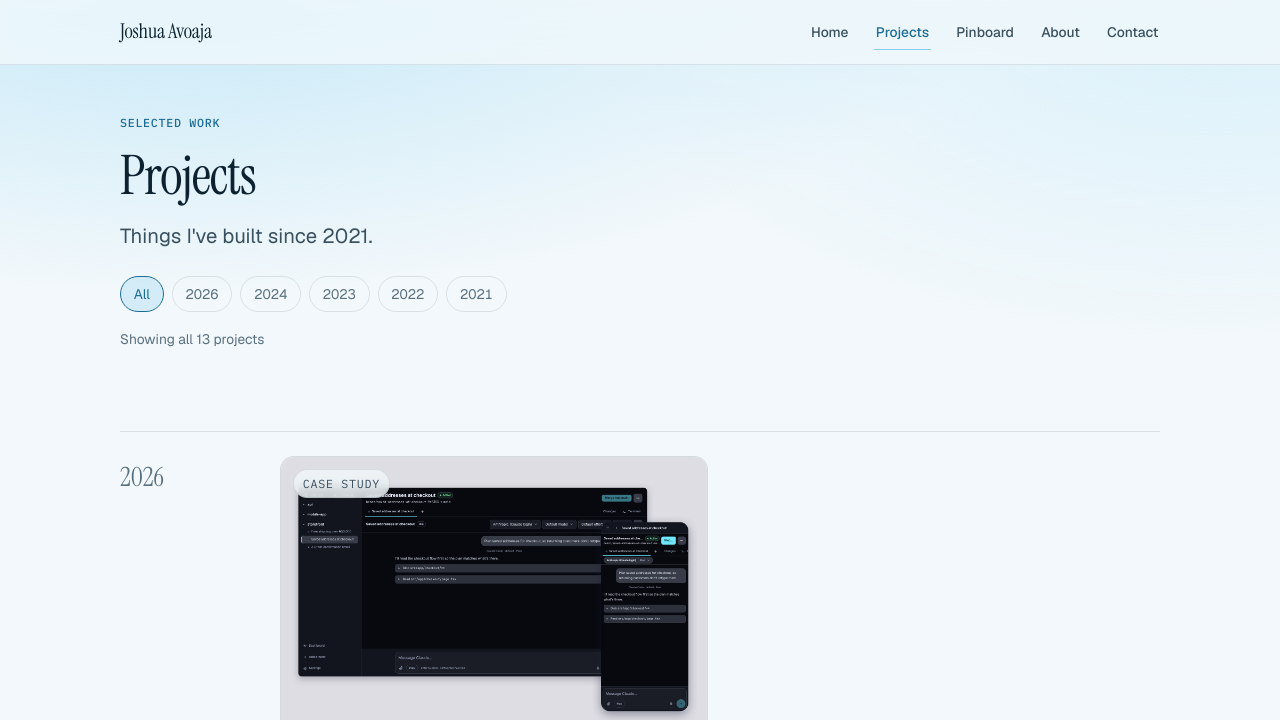
Test: v2 projects index › filters by year and reports what is showing
Click the button "2023".
click(339, 294)  # box [309,276,370,312]
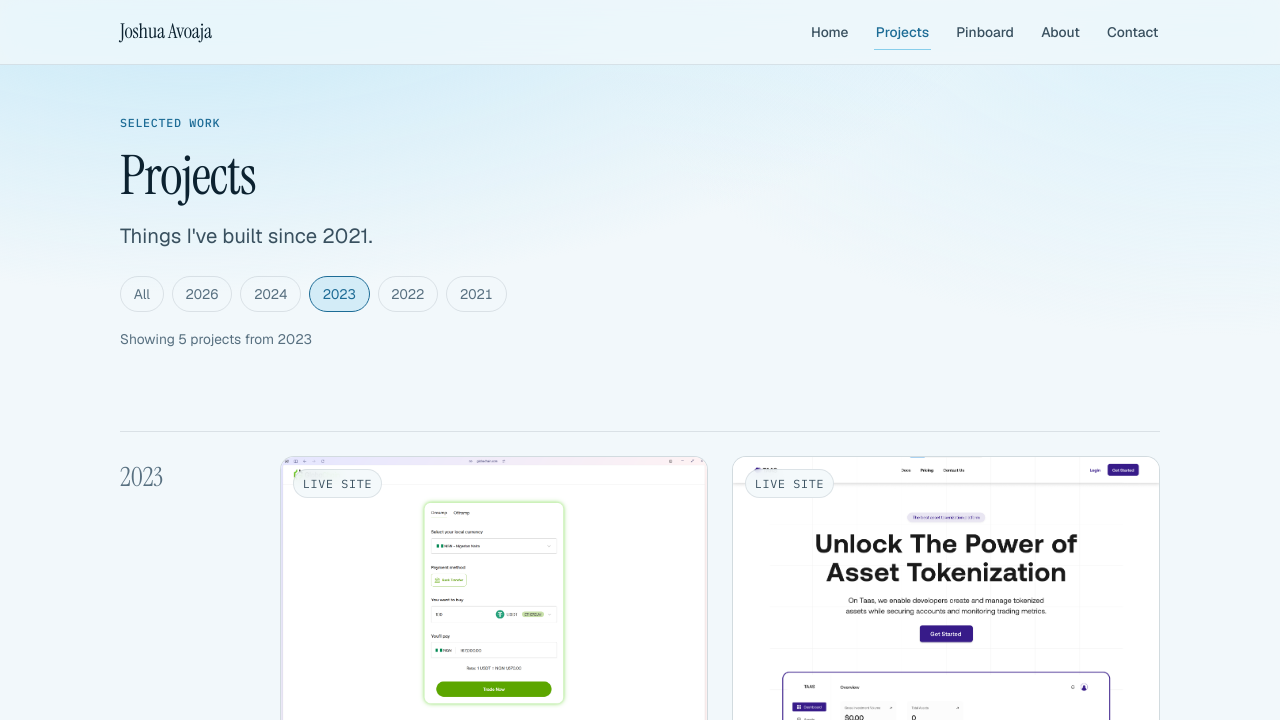
Result: the message reads "Showing 5 projects from 2023" at [120,330,312,348]
Click the button "All".
click(142, 294)  # box [120,276,164,312]
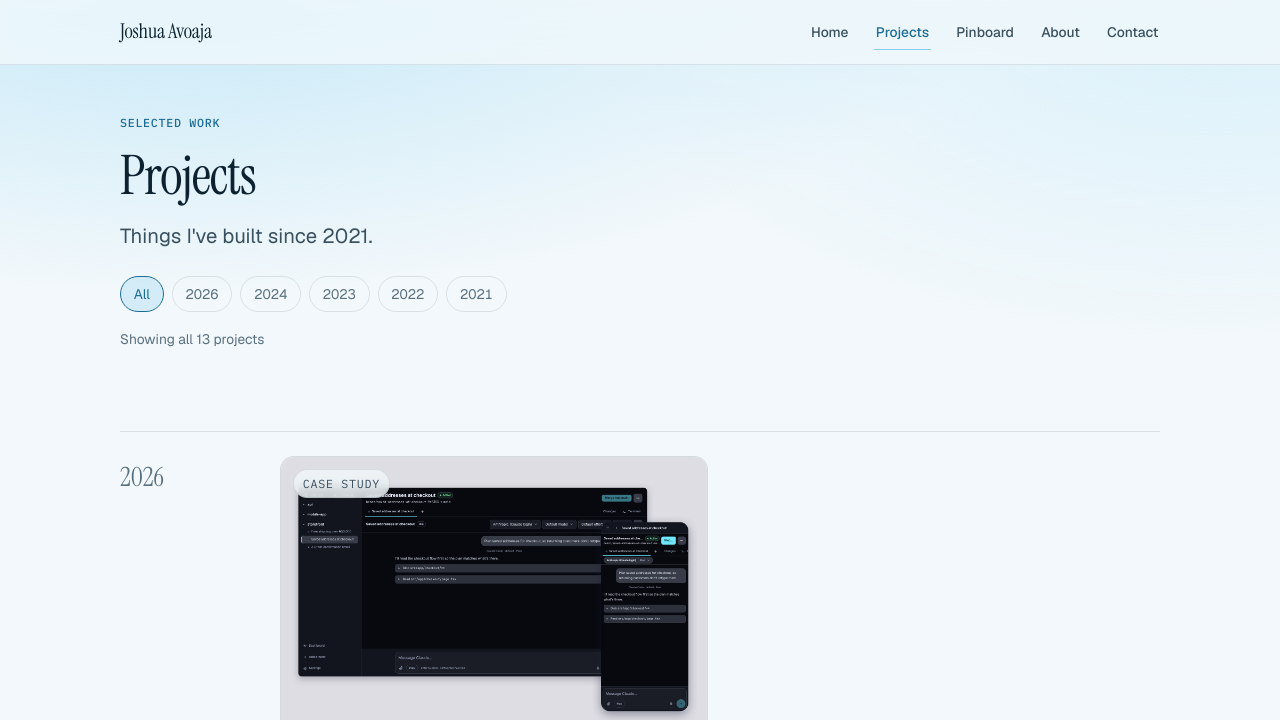
Result: the message reads "Showing all 13 projects" at [120,330,264,348]
